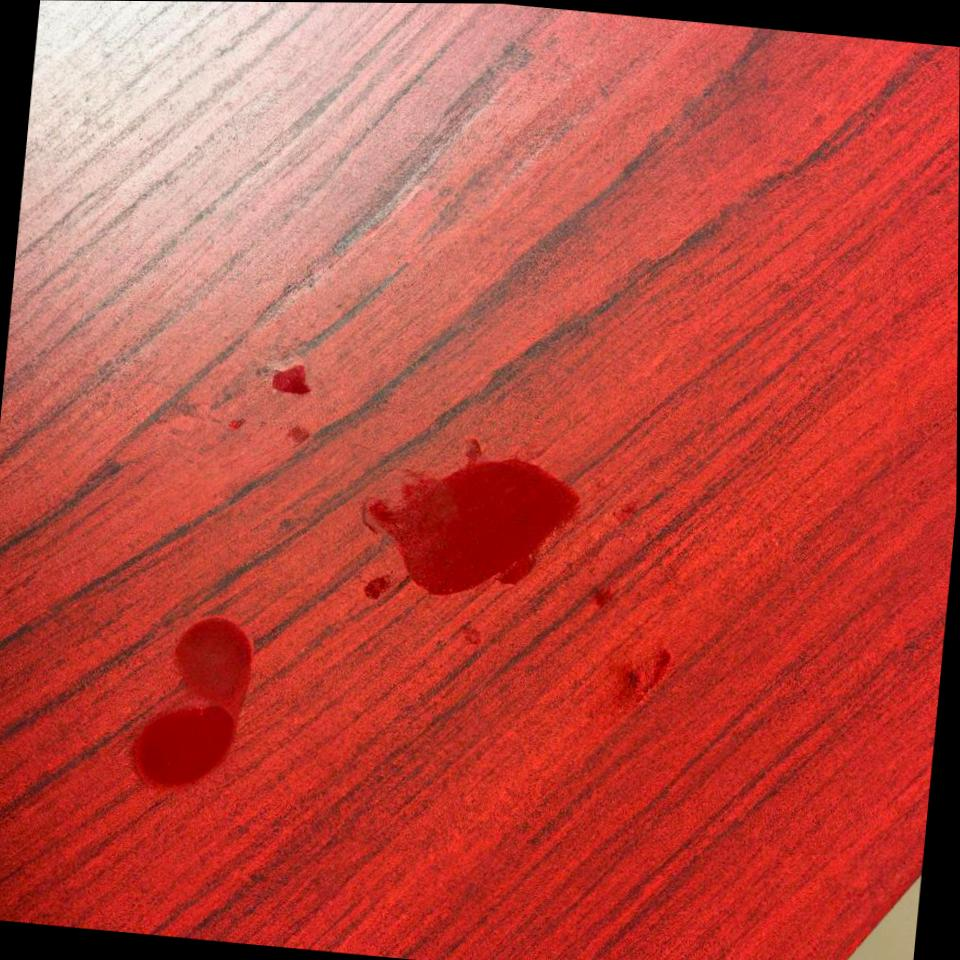Fire: (368, 437, 580, 596), (634, 648, 672, 702), (271, 364, 311, 396), (365, 573, 392, 600), (594, 585, 614, 608), (288, 426, 312, 443), (629, 669, 642, 695)
